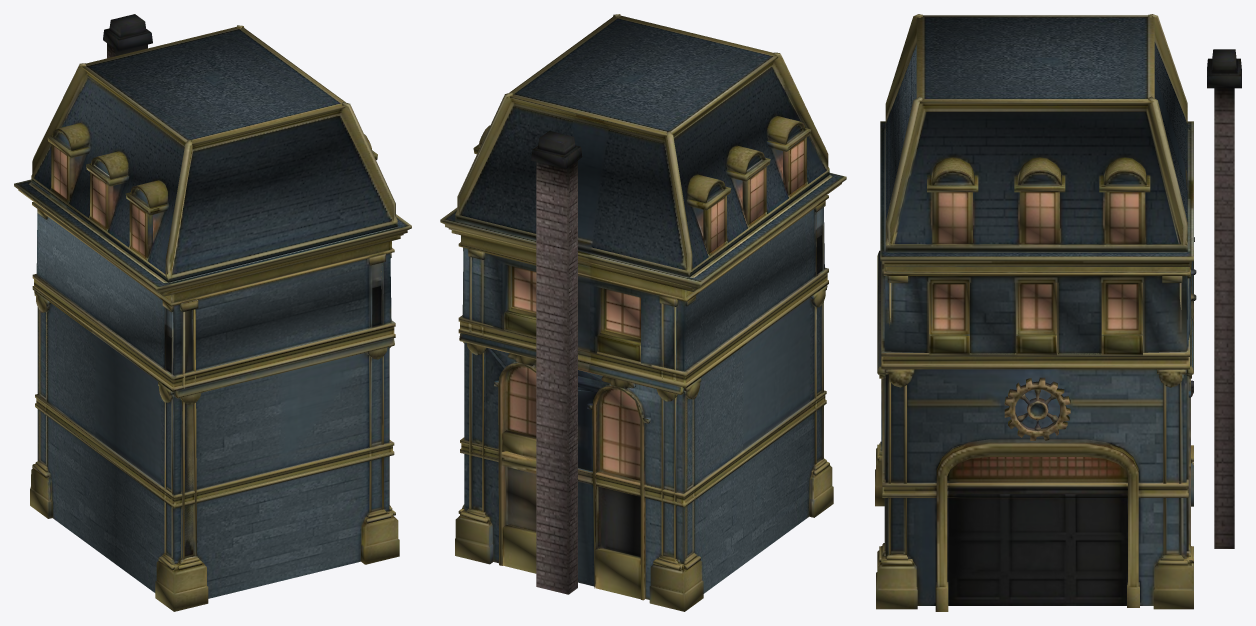
The model's file is tripo_convert_bb20dd4f-ce49-4040-ad67-08e930b91c6a.fbx.
The picture shows the model from 3 angles, left to right: view 1: azimuth 30°, elevation 25°; view 2: azimuth 150°, elevation 25°; view 3: azimuth 270°, elevation 25°; orthographic projection. The views are drawn at different scales.
Parts seen in each view (by area): view 1: tripo_node_bb20dd4f; view 2: tripo_node_bb20dd4f; view 3: tripo_node_bb20dd4f.
Part boxes in pixels (x1,y1,x2,y2): tripo_node_bb20dd4f: (14,14,411,611); tripo_node_bb20dd4f: (440,14,846,611); tripo_node_bb20dd4f: (875,14,1241,611).
Size of the model in its own units: 0.5957 by 0.998 by 0.6738.
Materials: 1 (1 with a texture image).
